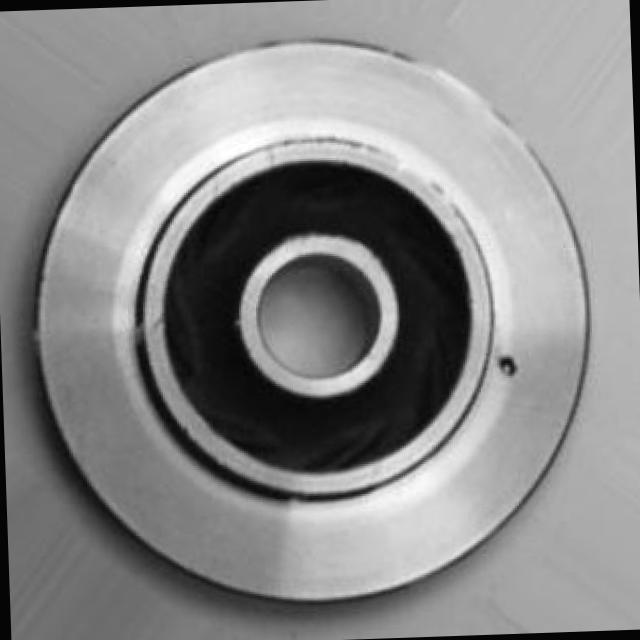Defect: (496, 349, 522, 384)
